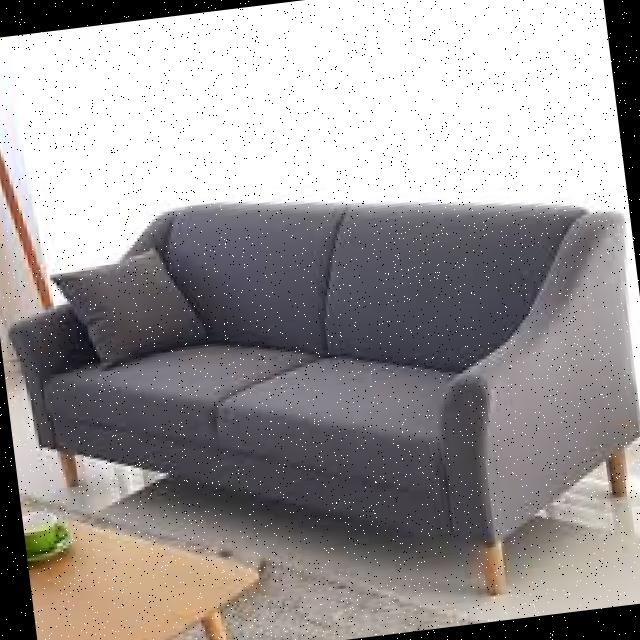Sofa: (0, 130, 640, 640)
